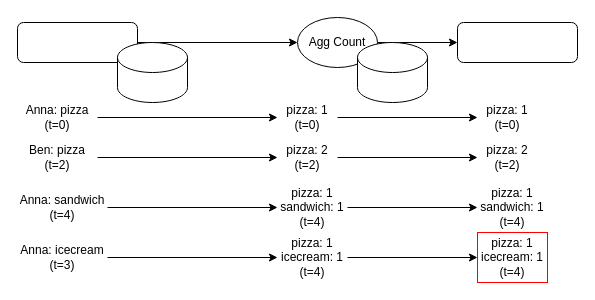
This 595x300 diagram has some shape labels left out. The shapes that lost their labels are listed below. From the top down, each one's box as (x1, y1, x2, y2) in pixels, then its label:
(16, 22, 138, 62): Votes Table
(456, 22, 578, 62): Output Table
